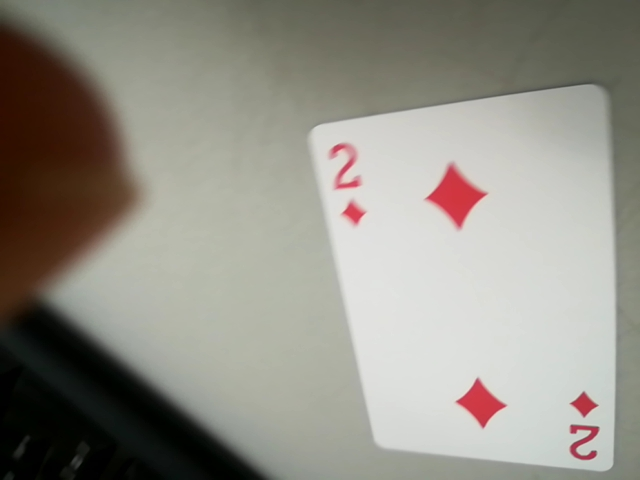fk 2: (314, 128, 371, 237), (564, 393, 609, 468)
